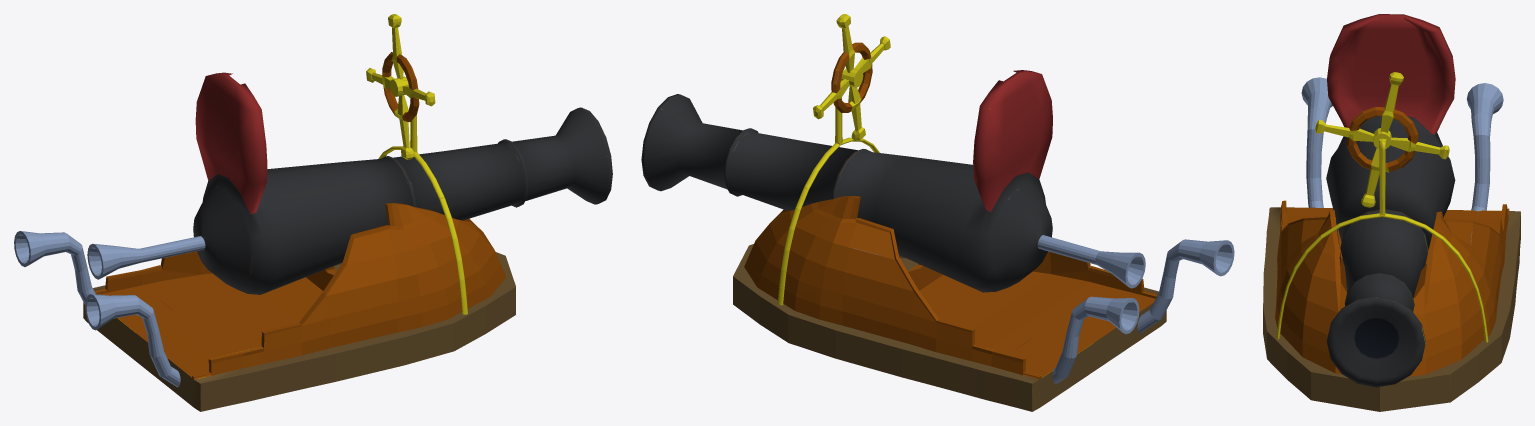
File: kart_pirata.obj
The picture shows the model from 3 angles, left to right: view 1: azimuth 30°, elevation 25°; view 2: azimuth 150°, elevation 25°; view 3: azimuth 270°, elevation 25°; orthographic projection.
Parts seen in each view (by area): view 1: carro_pirata; view 2: carro_pirata; view 3: carro_pirata.
Part boxes in pixels (left/top/right/bottom): carro_pirata: left=14, top=14, right=612, bottom=411; carro_pirata: left=641, top=14, right=1234, bottom=411; carro_pirata: left=1263, top=14, right=1520, bottom=411.
Bounding box in the file's own units: 12.1 × 6.31 × 5.1.
